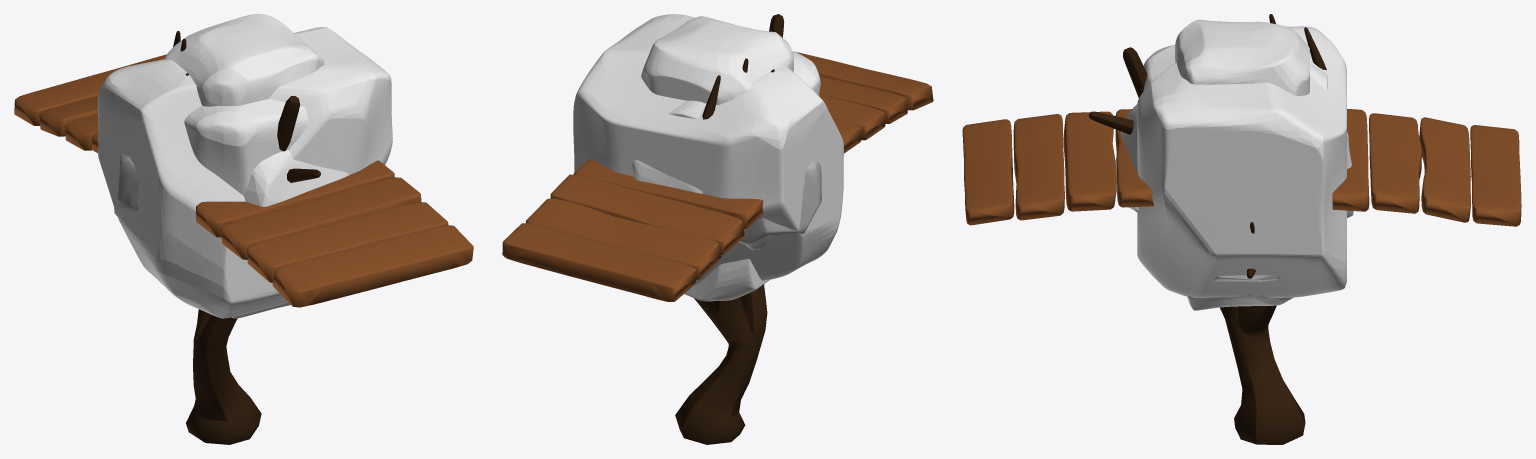
File: magasin.fbx
The picture shows the model from 3 angles, left to right: view 1: azimuth 30°, elevation 25°; view 2: azimuth 150°, elevation 25°; view 3: azimuth 270°, elevation 25°; orthographic projection. The views are drawn at different scales.
Visible parts, largest first — view 1: Cube.617, Cube.014, Cube.615, Cube.006, Cube.618, Cube.616, Cube.004; view 2: Cube.617, Cube.014, Cube.615, Cube.006, Cube.004, Cube.618, Cube.616; view 3: Cube.617, Cube.014, Cube.615, Cube.006, Cube.618, Cube.616.
Boxes of the visible parts, x1,y1,x2,y2 form: Cube.617: [97, 27, 392, 318]; Cube.014: [14, 54, 473, 307]; Cube.615: [164, 14, 324, 318]; Cube.006: [173, 31, 320, 444]; Cube.618: [184, 99, 308, 195]; Cube.616: [243, 150, 349, 206]; Cube.004: [114, 154, 138, 218]; Cube.617: [573, 14, 843, 285]; Cube.014: [502, 52, 933, 301]; Cube.615: [641, 16, 793, 301]; Cube.006: [675, 14, 784, 444]; Cube.004: [738, 160, 821, 249]; Cube.618: [669, 51, 820, 118]; Cube.616: [632, 159, 702, 193]; Cube.617: [1137, 26, 1346, 297]; Cube.014: [962, 109, 1521, 226]; Cube.615: [1175, 19, 1309, 310]; Cube.006: [1089, 14, 1326, 444]; Cube.618: [1143, 45, 1327, 281]; Cube.616: [1115, 104, 1353, 217].
Size of the model in its own units: 119 by 202 by 252.
